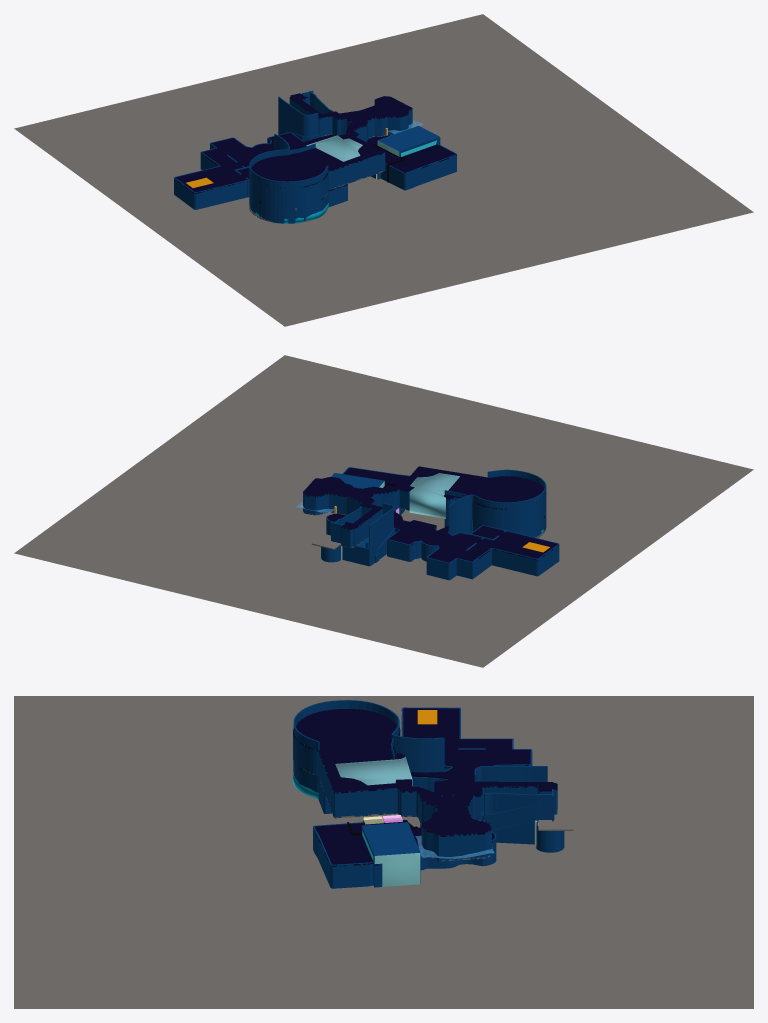
File: FishMapn.fbx
3 views of the same model, one above another, from view 1: azimuth 30°, elevation 25°; view 2: azimuth 150°, elevation 25°; view 3: azimuth 270°, elevation 25° (orthographic). The views are drawn at different scales.
Visible parts, largest first — view 1: Plane, Bmap, Tmap.001, Bmap.001, Tmap, InJOceanExibit.003, KelpForestEx; view 2: Plane, Bmap, Tmap.001, Bmap.001, Tmap, KelpForestEx; view 3: Plane, Bmap, Tmap.001, Bmap.001, Tmap, InJOceanExibit.003, KelpForestEx, InJOceanExibit, InJOceanExibit.002, BezierCurve.005.
Part boxes in pixels (bbox=[...]): Plane: bbox=[14, 14, 753, 326]; Bmap: bbox=[174, 96, 456, 223]; Tmap.001: bbox=[251, 93, 412, 188]; Bmap.001: bbox=[175, 132, 456, 203]; Tmap: bbox=[254, 96, 412, 206]; InJOceanExibit.003: bbox=[377, 126, 440, 156]; KelpForestEx: bbox=[306, 135, 362, 161]; Plane: bbox=[14, 355, 753, 667]; Bmap: bbox=[321, 467, 559, 580]; Tmap.001: bbox=[303, 466, 546, 529]; Bmap.001: bbox=[326, 467, 559, 562]; Tmap: bbox=[303, 467, 546, 548]; KelpForestEx: bbox=[409, 473, 459, 518]; Plane: bbox=[14, 696, 753, 1008]; Bmap: bbox=[293, 700, 564, 888]; Tmap.001: bbox=[293, 708, 557, 836]; Bmap.001: bbox=[299, 708, 530, 866]; Tmap: bbox=[293, 734, 557, 861]; InJOceanExibit.003: bbox=[361, 822, 420, 887]; KelpForestEx: bbox=[335, 756, 412, 785]; InJOceanExibit: bbox=[362, 832, 420, 886]; InJOceanExibit.002: bbox=[375, 853, 419, 886]; BezierCurve.005: bbox=[482, 805, 537, 830].
Size of the model in its own units: 520 by 64.93 by 520.
